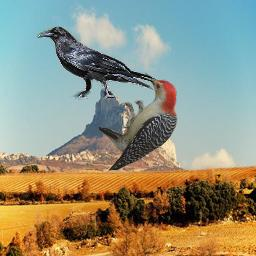Crow: (37, 26, 161, 101)
Woodpecker: (99, 72, 180, 170)
